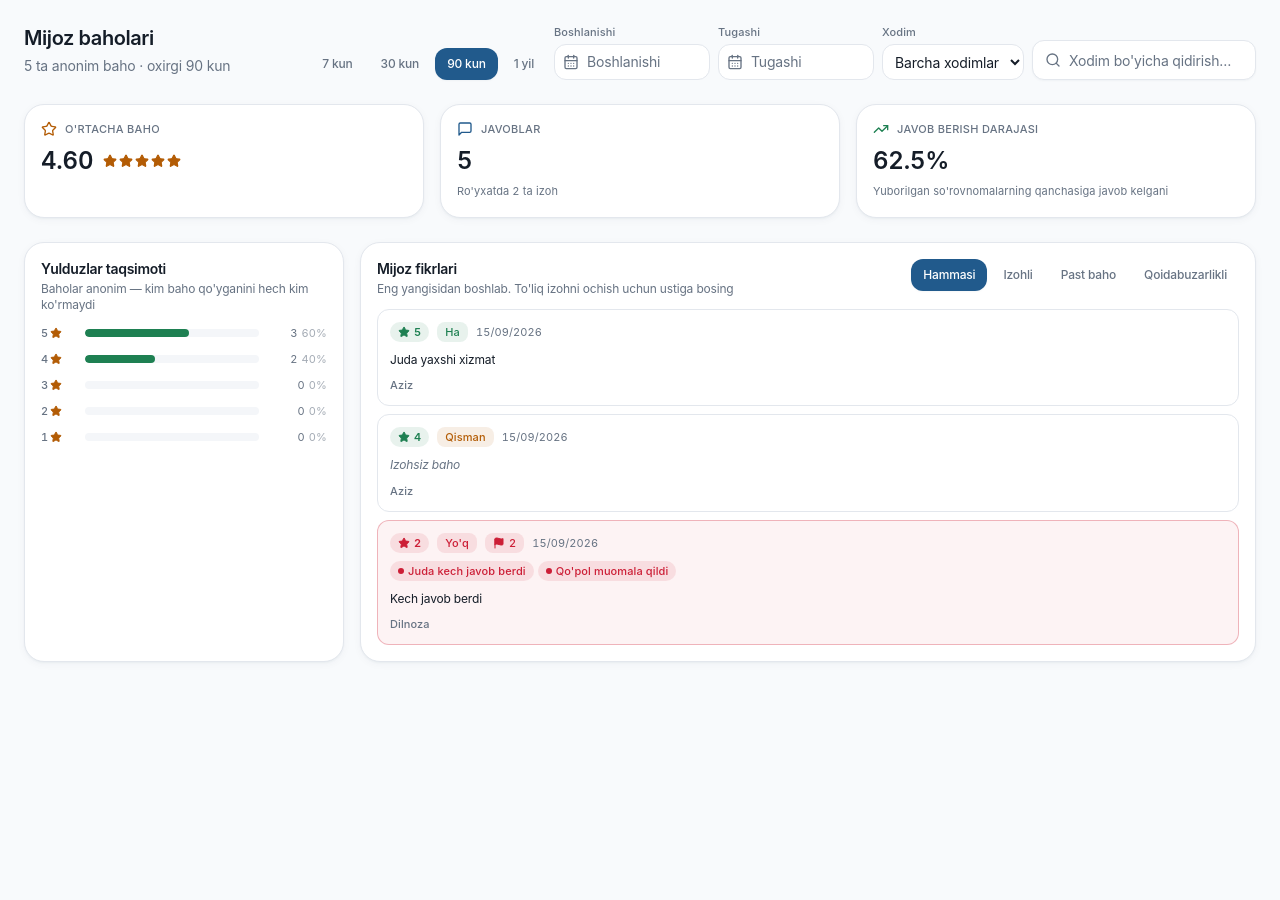
it: the comment dialog › opens on a card and shows the full comment
Check: the heading "Mijoz fikrlari" is shown, box x1=377 y1=260 x2=457 y2=277
Click the text "Kech javob berdi": (436, 599) x1=390 y1=589 x2=482 y2=608
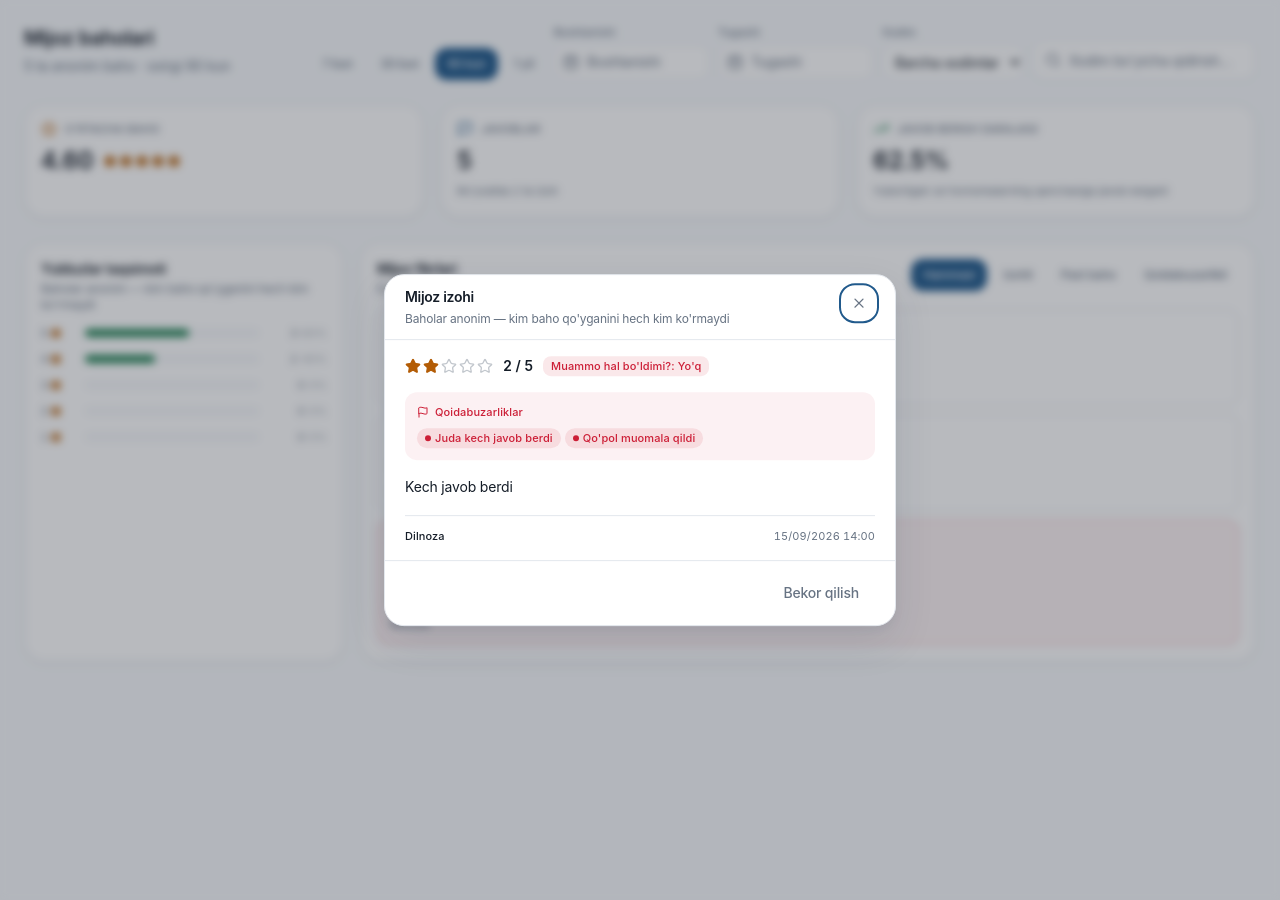
Check: the heading "Mijoz izohi" is shown, box x1=405 y1=288 x2=474 y2=305
